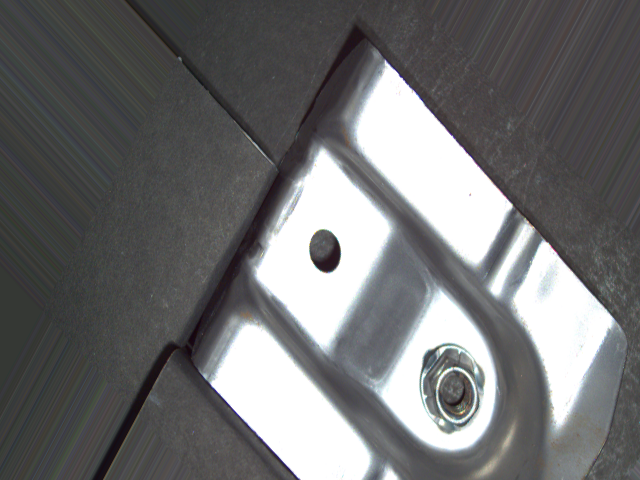good: (415, 341, 489, 440)
